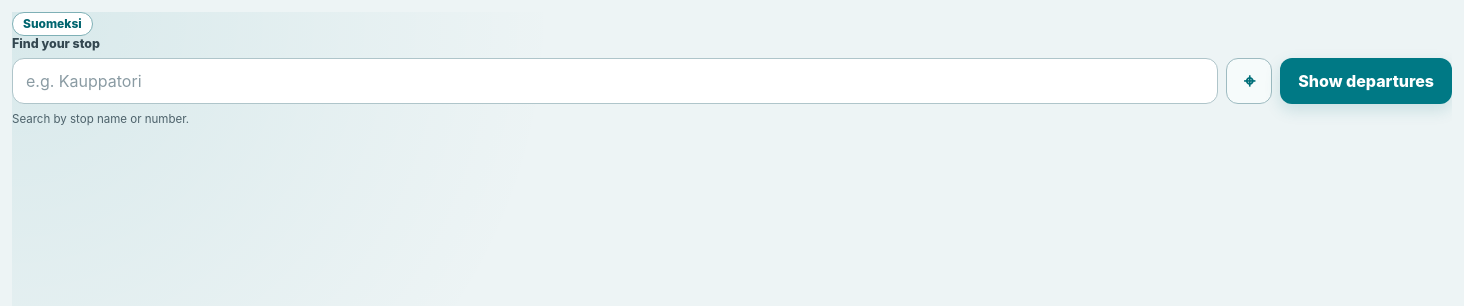
it: the search form, and an error already shown in it, follow the language
This screenshot has width=1464, height=306.
Type "zzz" into the dropdown at (615, 81), box [12,58,1218,104]
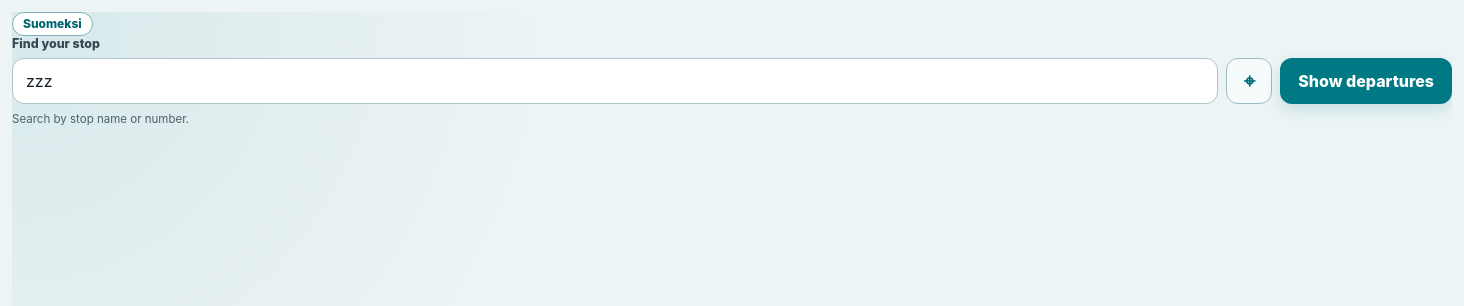
Submit the form, box [12,36,1452,127]
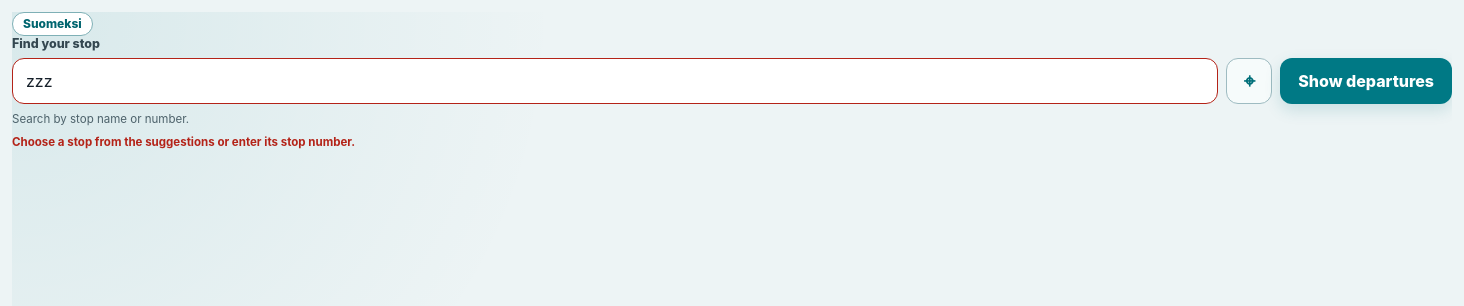
Check: the text "Choose a stop from the suggestions or enter its stop number." is shown, box [12,135,355,149]
Click the button "Suomeksi" at (52, 24), box [12,12,93,36]
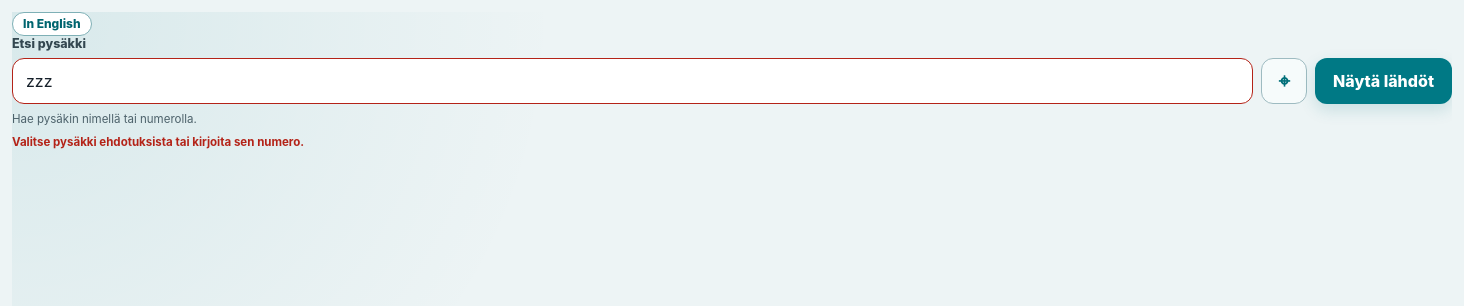
Check: the text "Valitse pysäkki ehdotuksista tai kirjoita sen numero." is shown, box [12,135,304,149]
